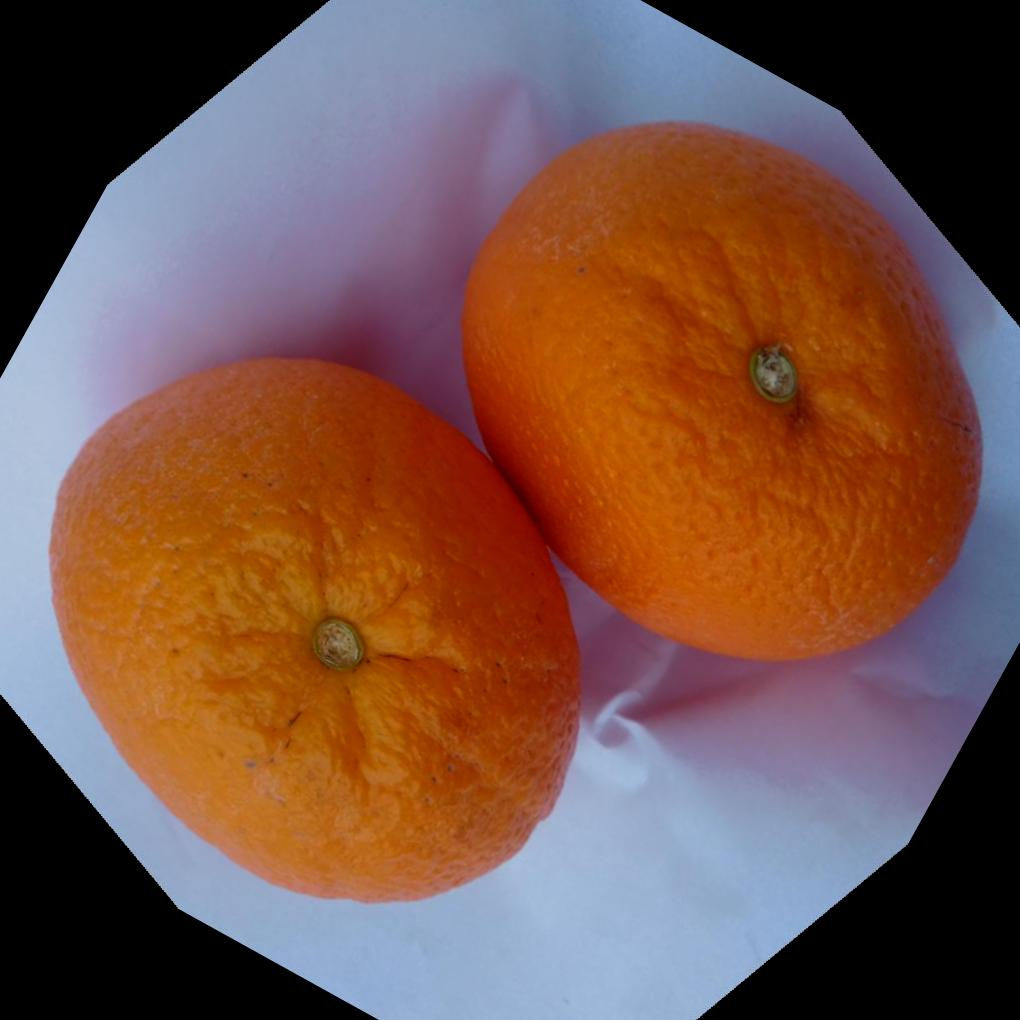FreshGuava: (49, 118, 988, 906)
